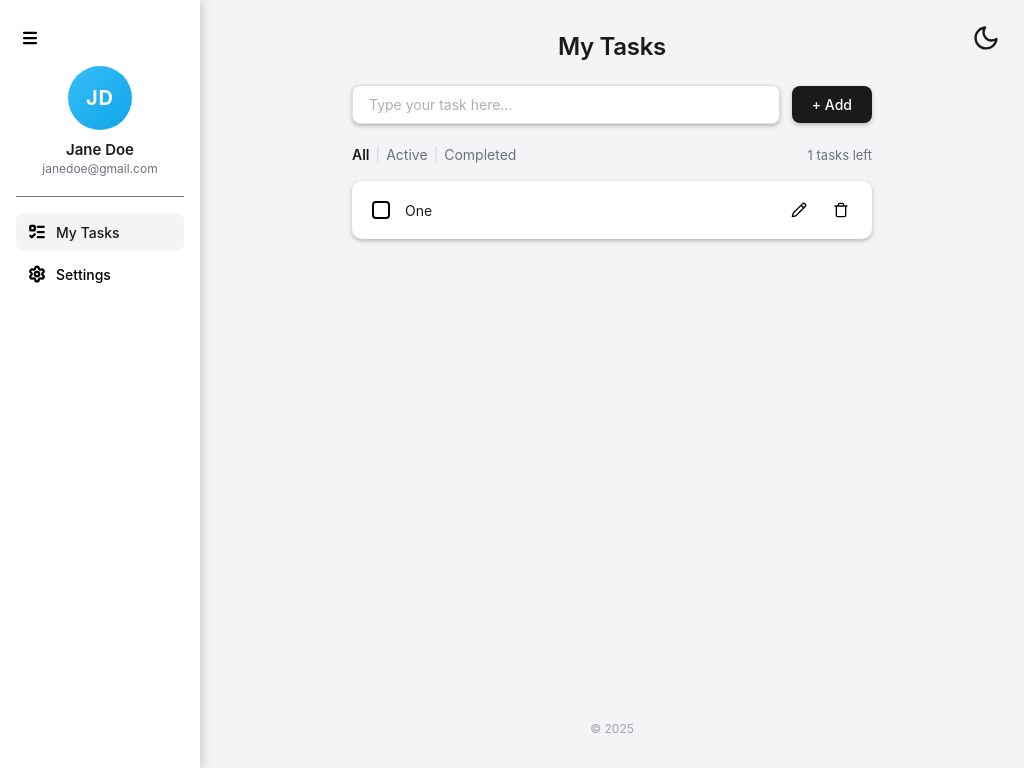
Test: TasksPage интеграционные сценарии › Переключение статуса задачи: чекбокс меняет completed и обновляет счётчик
The width and height of the screenshot is (1024, 768).
Expected: the text "One" is shown, [405,202,432,218]
Expected: the text "1 tasks left" is shown, [808,146,872,162]
Click the checkbox named "complete". click: coordinates (381, 210)
box: [372,201,390,219]
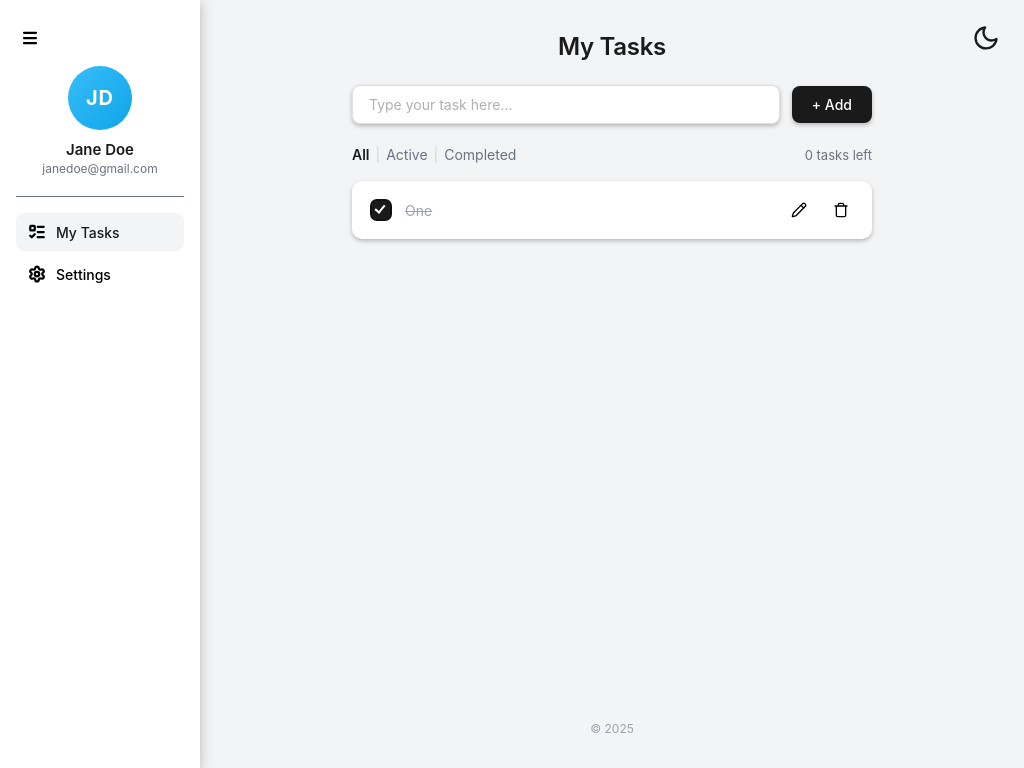
Result: the text "0 tasks left" is shown at [805,146,872,162]
